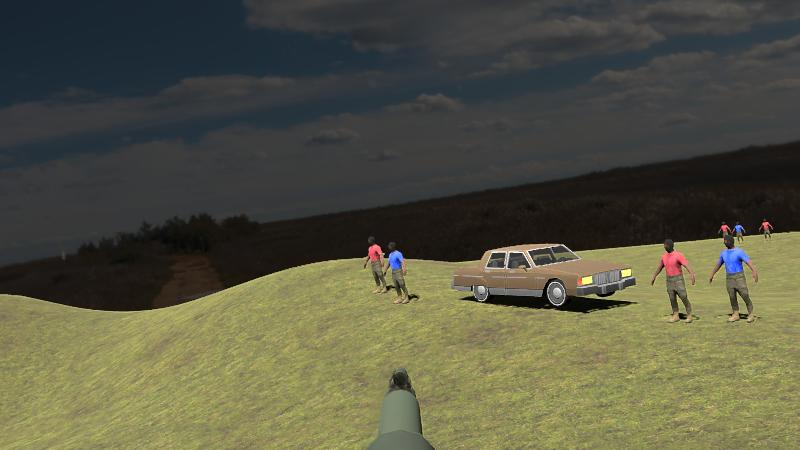Human: (709, 234, 757, 322), (652, 238, 695, 323), (385, 240, 408, 305), (364, 235, 385, 295)
car: (451, 242, 638, 310)
